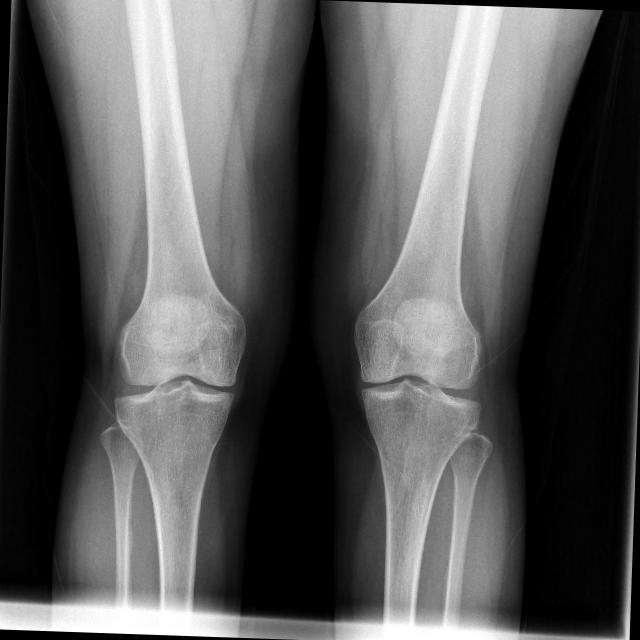Knee: (348, 298, 488, 460), (110, 301, 252, 438)
